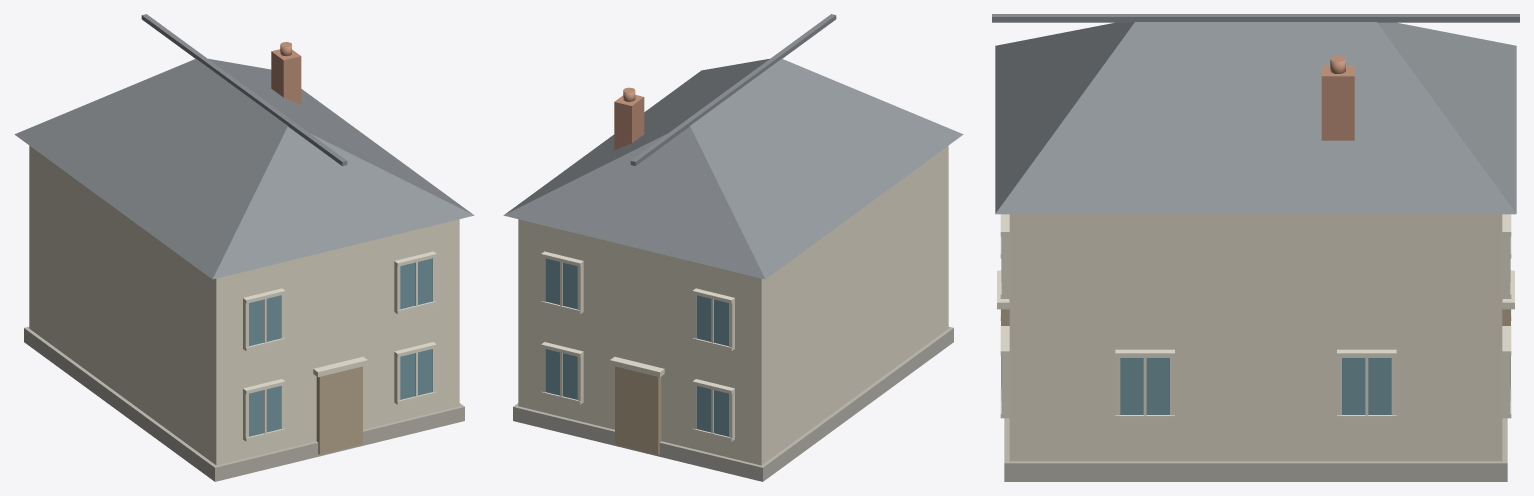
File: rhine-villa_lod0.glb
3 views of the same model, side by side, from view 1: azimuth 30°, elevation 25°; view 2: azimuth 150°, elevation 25°; view 3: azimuth 270°, elevation 25° (orthographic). The views are drawn at different scales.
Visible parts, largest first — view 1: RF_Body, RF_HippedRoof, RF_Foundation, RF_Door.001, RF_Ridge, RF_Chimney, RF_Window.004, RF_Window.001, RF_Window.002, RF_Window.003, RF_DoorLintel.001; view 2: RF_Body, RF_HippedRoof, RF_Foundation, RF_Door, RF_Ridge, RF_Chimney, RF_Window.008, RF_Window.005, RF_Window.006, RF_Window.007, RF_DoorLintel; view 3: RF_Body, RF_HippedRoof, RF_Foundation, RF_Ridge, RF_Window.009, RF_Window, RF_Chimney, RF_WindowFrame.008, RF_WindowFrame.016, RF_WindowFrame.014, RF_WindowFrame.006.
Boxes of the visible parts, <box> form: RF_Body: <box>29,145,459,465</box>; RF_HippedRoof: <box>14,58,474,279</box>; RF_Foundation: <box>24,326,464,481</box>; RF_Door.001: <box>316,366,362,454</box>; RF_Ridge: <box>141,14,347,165</box>; RF_Chimney: <box>271,49,301,104</box>; RF_Window.004: <box>400,258,432,309</box>; RF_Window.001: <box>249,386,281,436</box>; RF_Window.002: <box>249,295,281,346</box>; RF_Window.003: <box>400,349,432,399</box>; RF_DoorLintel.001: <box>313,356,367,377</box>; RF_Body: <box>518,145,948,465</box>; RF_HippedRoof: <box>503,58,963,279</box>; RF_Foundation: <box>513,326,953,481</box>; RF_Door: <box>615,366,661,454</box>; RF_Ridge: <box>630,14,836,165</box>; RF_Chimney: <box>614,95,644,150</box>; RF_Window.008: <box>545,258,577,309</box>; RF_Window.005: <box>696,386,728,436</box>; RF_Window.006: <box>696,295,728,346</box>; RF_Window.007: <box>545,349,577,399</box>; RF_DoorLintel: <box>610,356,664,377</box>; RF_Body: <box>1009,214,1502,461</box>; RF_HippedRoof: <box>995,22,1516,214</box>; RF_Foundation: <box>1004,418,1507,481</box>; RF_Ridge: <box>992,14,1519,22</box>; RF_Window.009: <box>1120,358,1169,414</box>; RF_Window: <box>1342,358,1391,414</box>; RF_Chimney: <box>1321,65,1354,140</box>; RF_WindowFrame.008: <box>1001,230,1009,298</box>; RF_WindowFrame.016: <box>1502,230,1510,298</box>; RF_WindowFrame.014: <box>1502,351,1510,418</box>; RF_WindowFrame.006: <box>1001,351,1009,418</box>.
Size of the model in its own units: 9.7 by 10.47 by 12.85.
